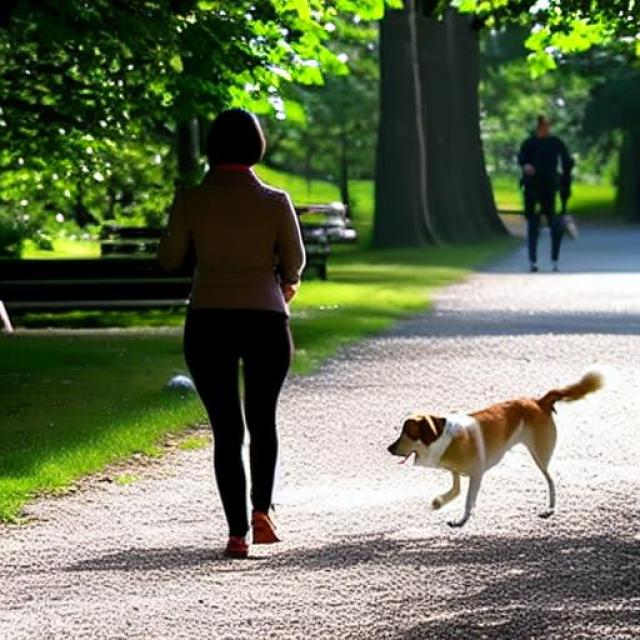Unleashed_Dog: (182, 318, 604, 530)
